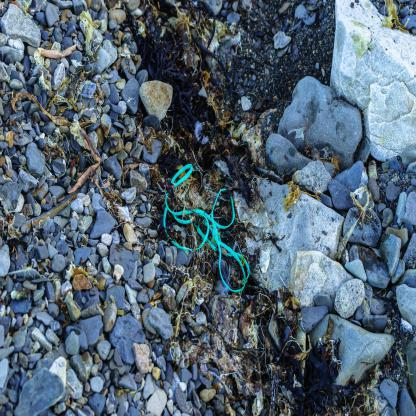kopuk: (163, 164, 252, 295)
